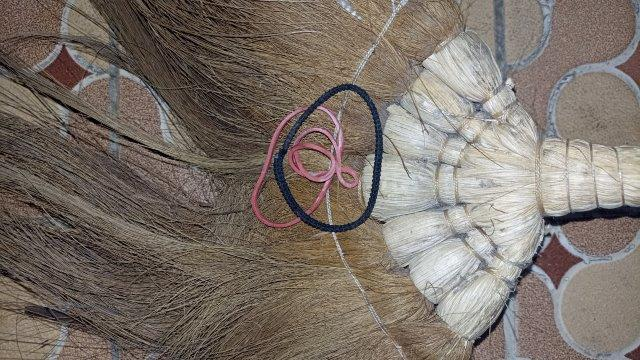karet: (251, 84, 383, 232)
